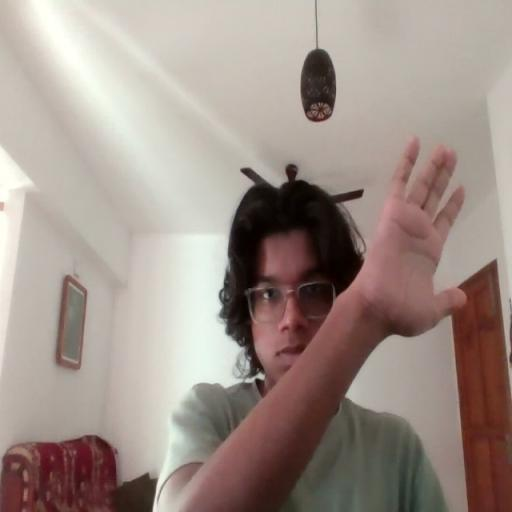Paper: (360, 133, 470, 333)
